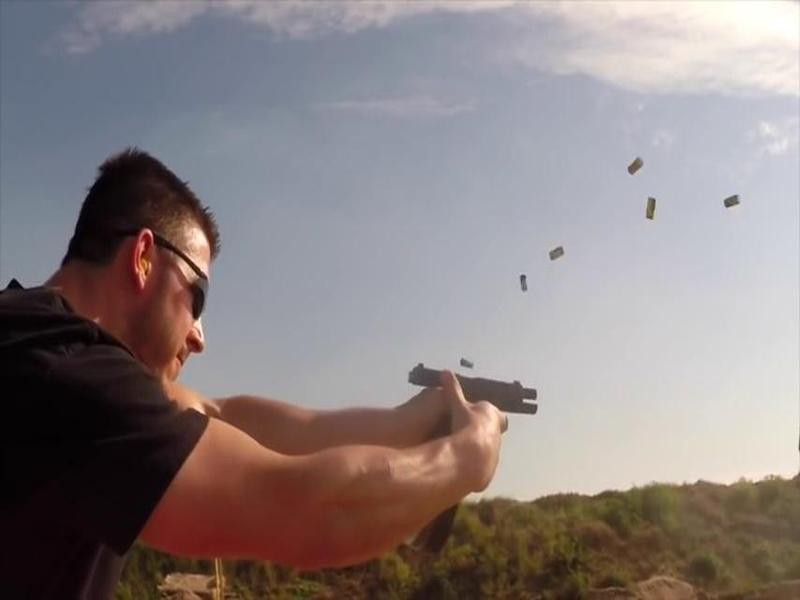Pistola: (399, 349, 550, 449)
